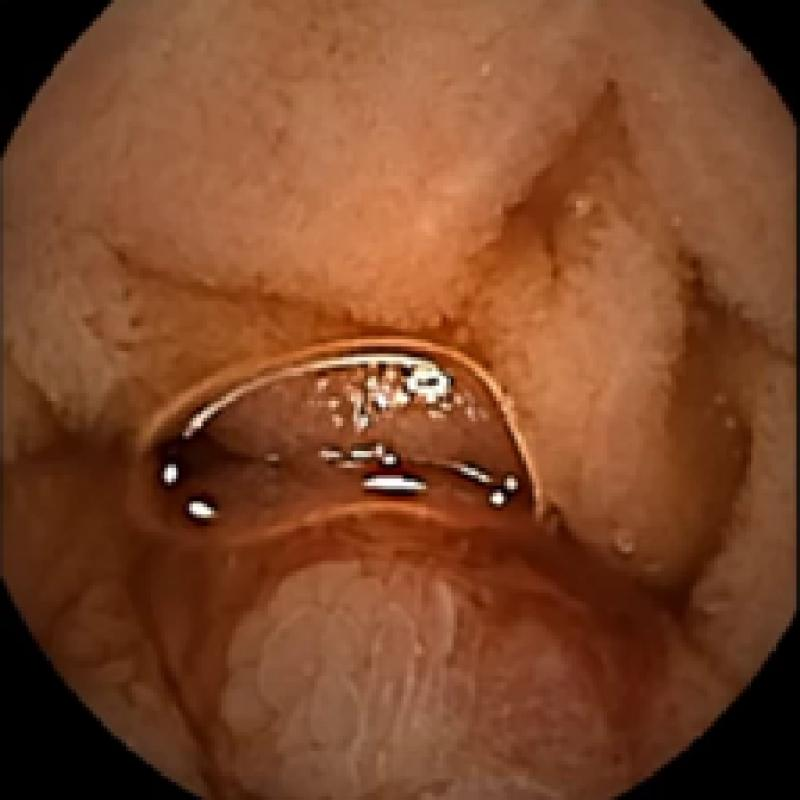bleeding: (100, 400, 693, 786)
